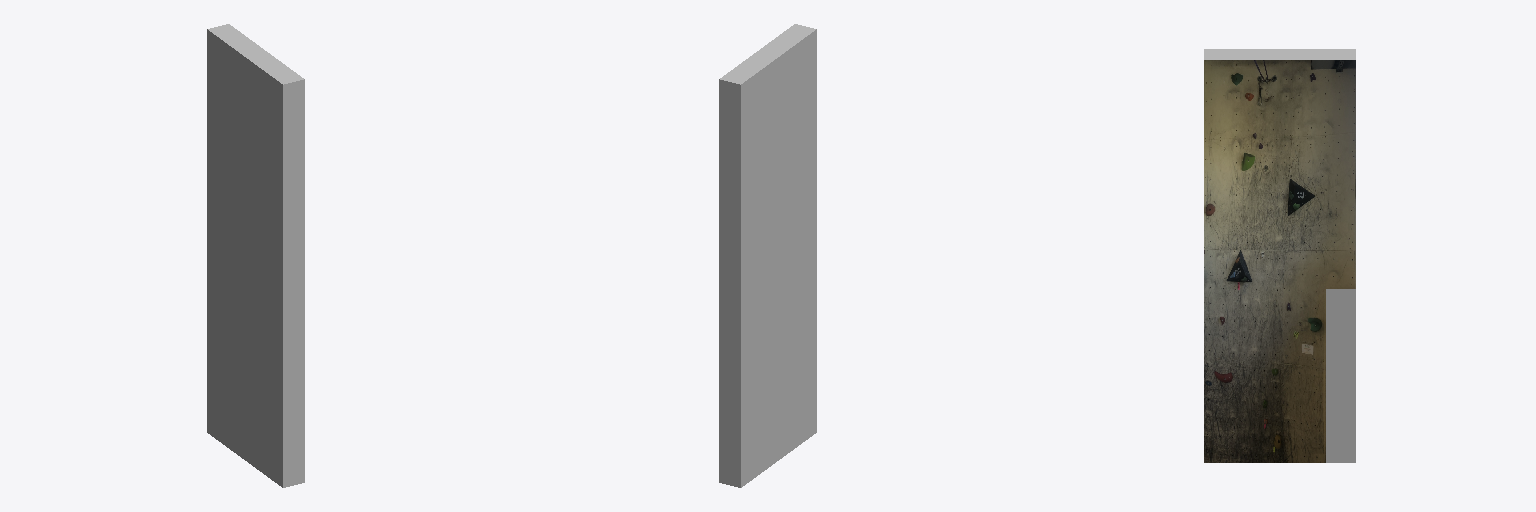
3 views of the same model, side by side, from view 1: azimuth 30°, elevation 25°; view 2: azimuth 150°, elevation 25°; view 3: azimuth 270°, elevation 25° (orthographic).
Parts seen in each view (by area): view 1: Cube; view 2: Cube; view 3: Cube.
Part boxes in pixels (bbox=[...]): Cube: bbox=[207, 24, 304, 487]; Cube: bbox=[719, 24, 816, 487]; Cube: bbox=[1204, 49, 1355, 462].
Size of the model in its own units: 0.25 by 4.4 by 1.5.
Materials: 2 (1 with a texture image).